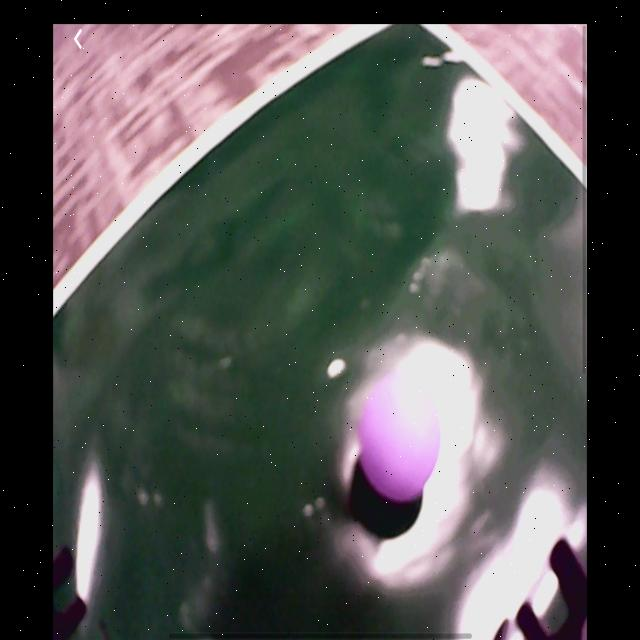ball: (356, 375, 441, 500)
